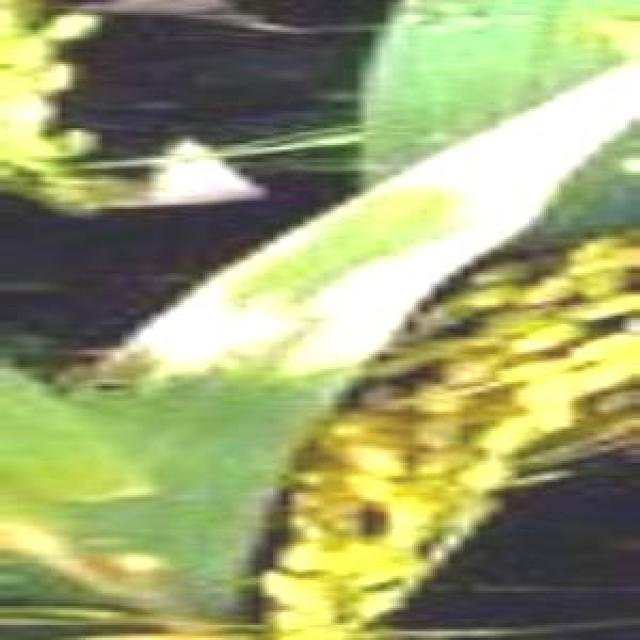Bacterial_Leaf_Blight: (111, 128, 452, 595)
